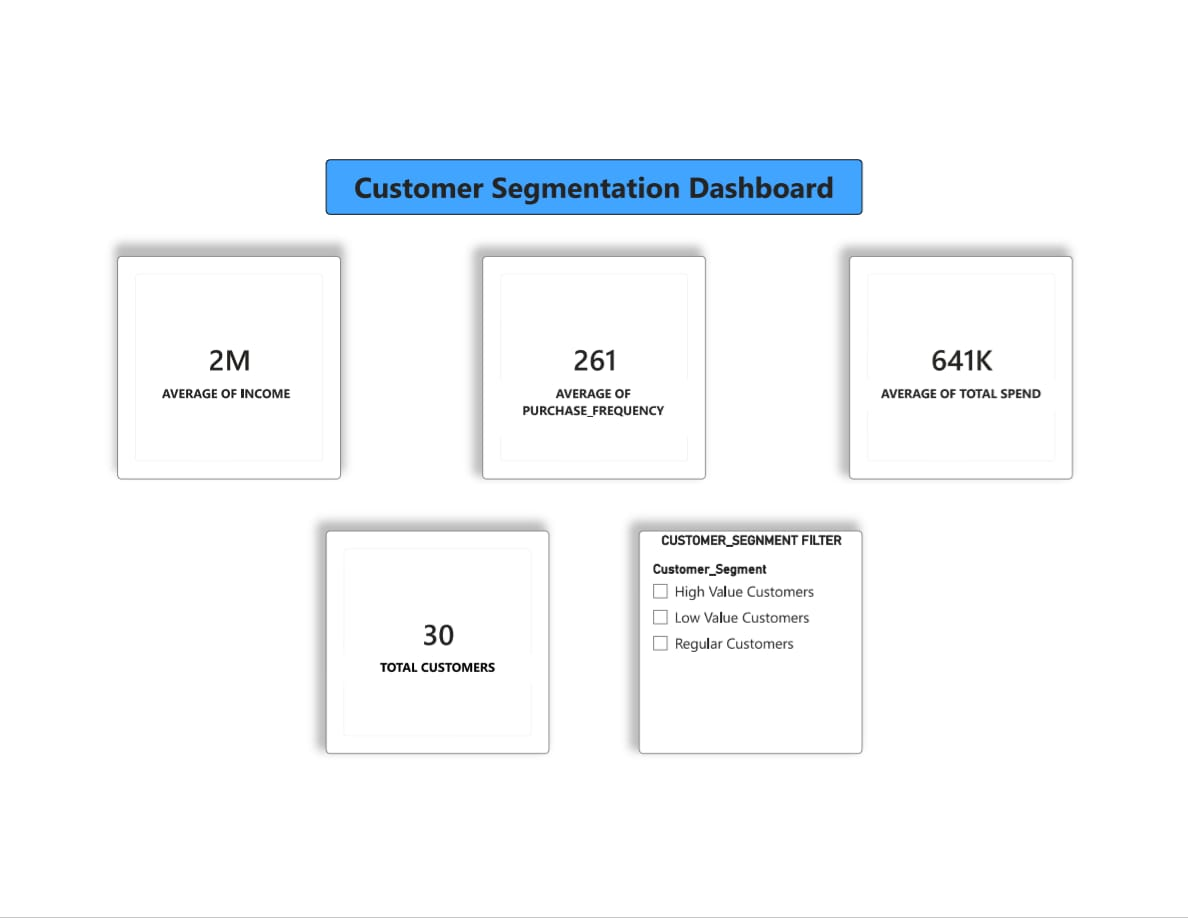

This screenshot's page, from the dashboard's own definition file:
{"tool":"powerbi","page":{"name":"Page 1","canvas":[1280,720],"ordinal":0},"visuals":[{"type":"cardVisual","fields":{"Data":["Sum(Sheet1.Income)"]},"box":[106.7,133.3,250,250],"z":0},{"type":"cardVisual","fields":{"Data":["Sum(Sheet1.Total_Spend)"]},"box":[925,133.3,250,250],"z":1000},{"type":"cardVisual","fields":{"Data":["Sum(Sheet1.Purchase_Frequency)"]},"box":[515,133.3,250,250],"z":2000},{"type":"slicer","title":"CUSTOMER_SEGNMENT FILTER","fields":{"Values":["Sheet1.Customer_Segment"]},"box":[690,440,250,250],"z":3000},{"type":"textbox","box":[340,25,600,61.7],"z":4000},{"type":"textbox","box":[151.7,271.7,160,45],"z":5000},{"type":"textbox","box":[528.3,271.7,221.7,63.3],"z":6000},{"type":"textbox","box":[940,271.7,220,33.3],"z":7000},{"type":"cardVisual","fields":{"Data":["CountNonNull(Sheet1.Customer_ID)"]},"box":[340,440,250,250],"z":8000},{"type":"textbox","box":[355,578.3,220,31.7],"z":9000}]}

Visuals, with their boxes in screenshot pixels (x1, y1, x2, y2):
cardVisual - Sum(Sheet1.Income): <box>119,254,340,475</box>
cardVisual - Sum(Sheet1.Total_Spend): <box>841,254,1062,475</box>
cardVisual - Sum(Sheet1.Purchase_Frequency): <box>479,254,700,475</box>
"CUSTOMER_SEGNMENT FILTER" slicer: <box>634,525,855,745</box>
textbox: <box>325,158,855,213</box>
textbox: <box>159,376,300,416</box>
textbox: <box>491,376,687,432</box>
textbox: <box>855,376,1049,405</box>
cardVisual - CountNonNull(Sheet1.Customer_ID): <box>325,525,546,745</box>
textbox: <box>338,647,532,675</box>
